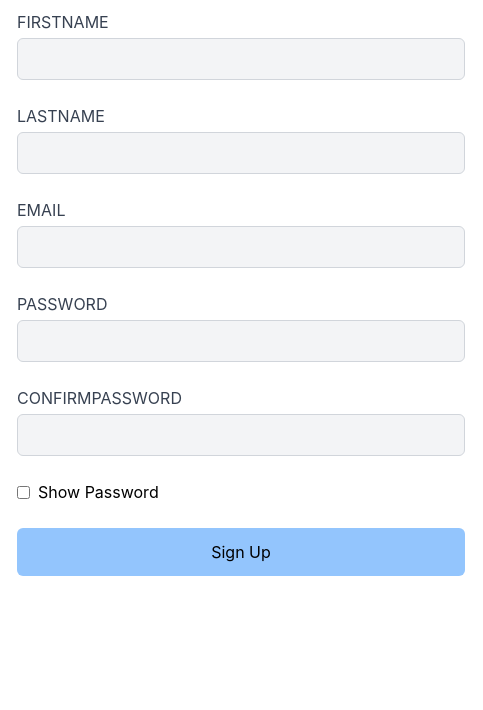
Test: validation error message is shown when form is submitted with invalid password which matches with user first name
In the field with test id "firstname": (241, 59) [17,38,465,80], type "test"
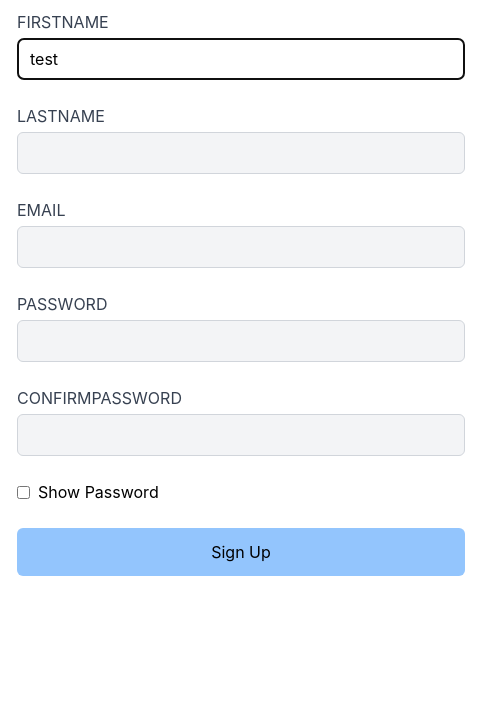
In the password field with test id "password": (241, 341) [17,320,465,362], type "test1233A"
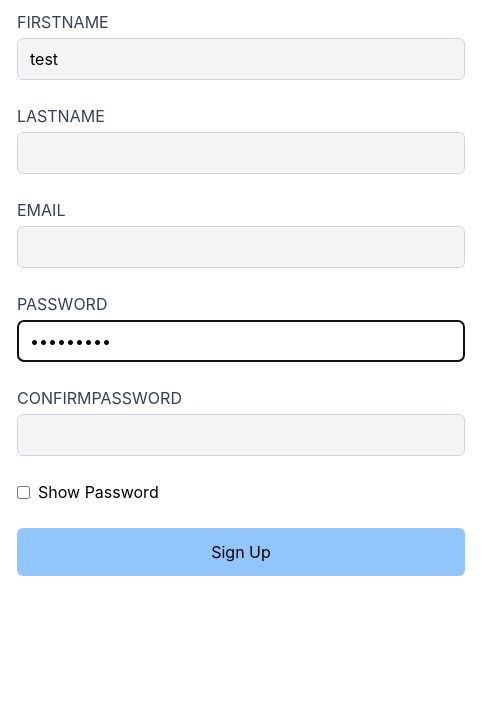
Click the button with test id "signupbutton": (241, 552) [17,528,465,576]
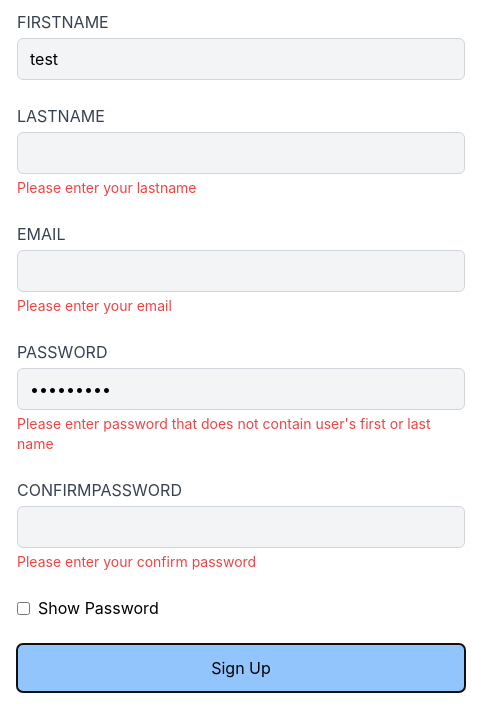
Result: the text "Please enter password that does not contain user's first or last name" is shown at [17,414,465,454]
